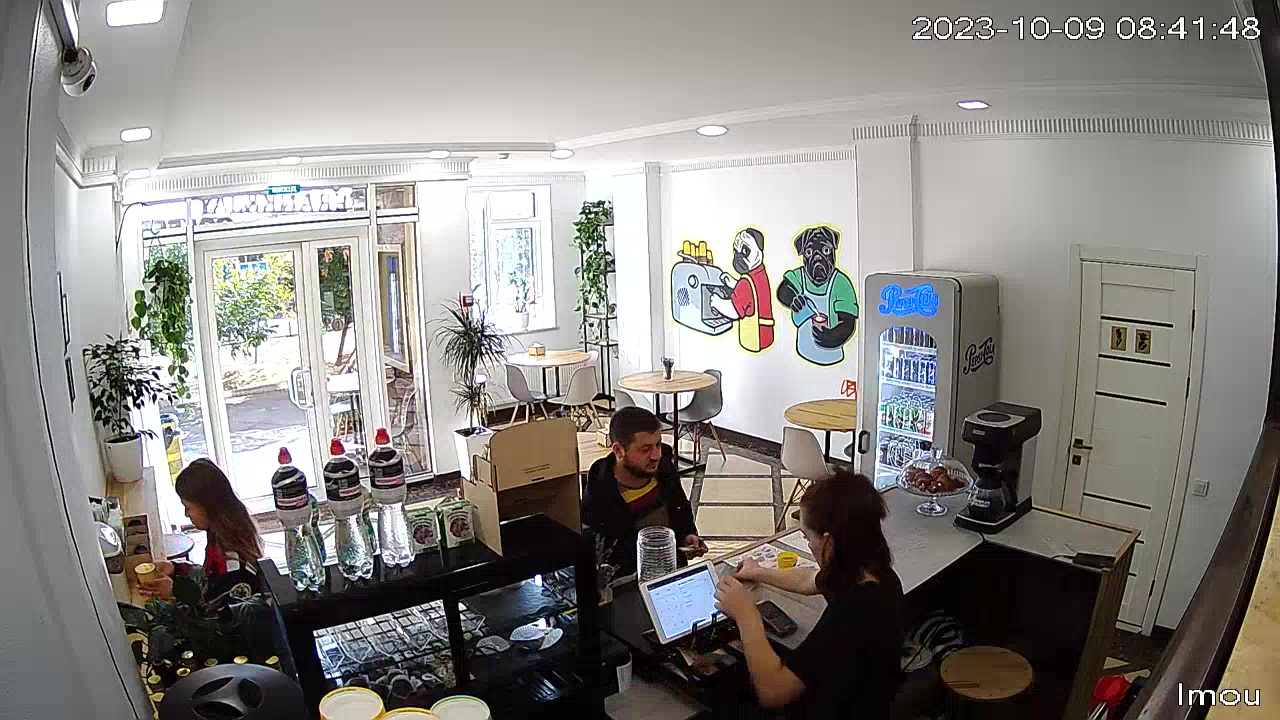openedcash: (629, 564, 764, 682)
